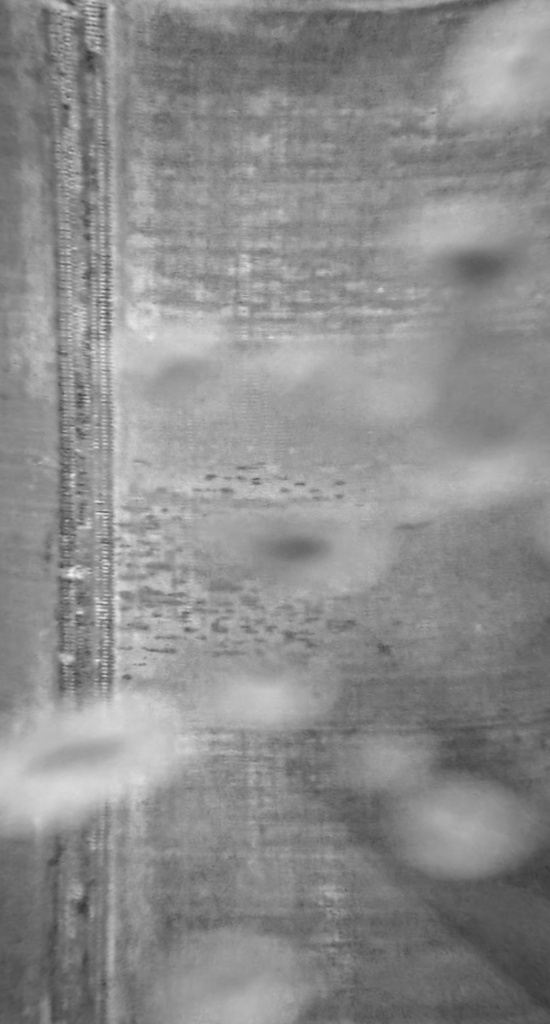splice: (29, 1, 126, 1022)
